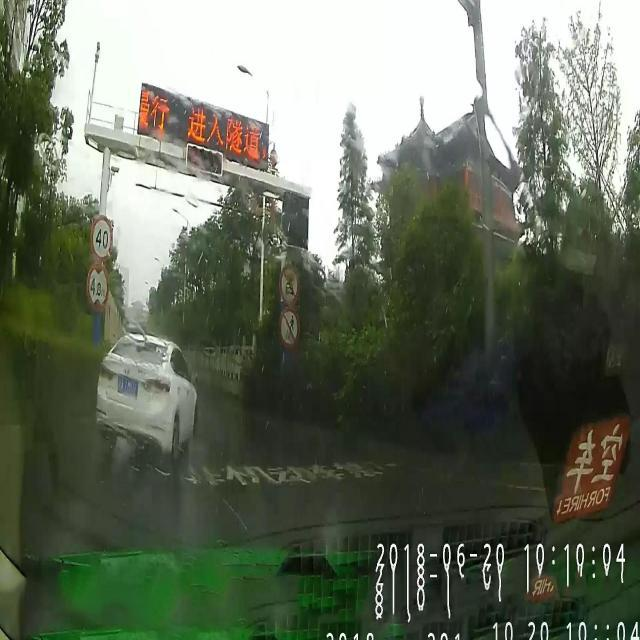car: (92, 324, 205, 463)
